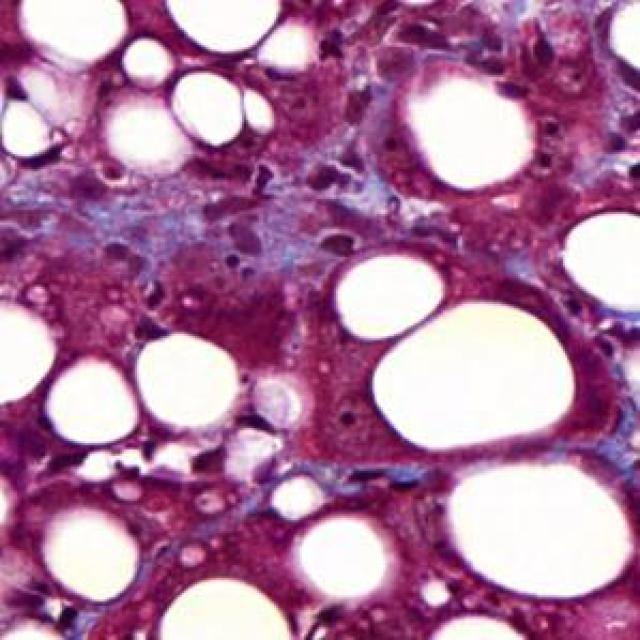steatosis: (131, 326, 246, 430), (334, 246, 445, 349), (43, 356, 137, 448), (178, 58, 257, 141)
